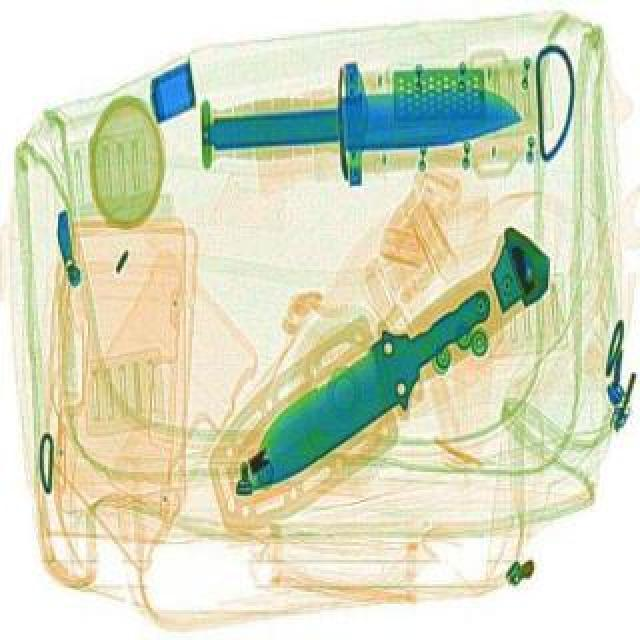knife: (222, 272, 514, 496), (204, 82, 526, 154)
